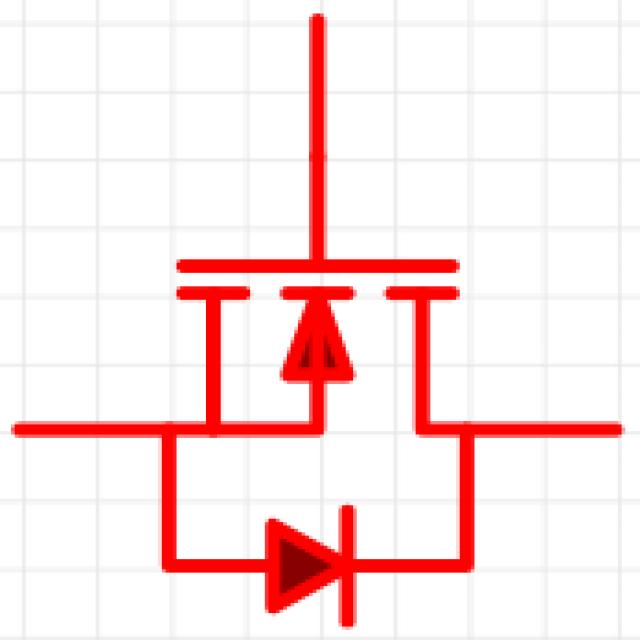nmos: (20, 21, 608, 634)
